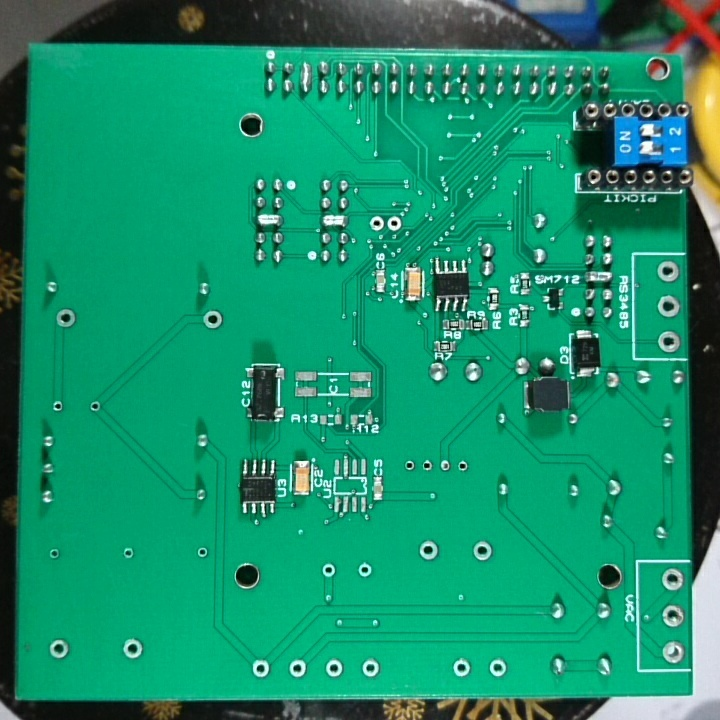F: (659, 635, 689, 666), (660, 601, 687, 631), (655, 258, 682, 286), (654, 294, 684, 319), (659, 566, 685, 593), (656, 330, 682, 356), (118, 636, 146, 660), (53, 306, 77, 332), (47, 636, 71, 661), (484, 656, 509, 680), (200, 307, 224, 331), (472, 539, 496, 563), (416, 539, 439, 562), (250, 655, 272, 679), (359, 656, 382, 678), (450, 656, 471, 680), (286, 657, 309, 678), (324, 656, 344, 678), (319, 560, 341, 579), (387, 212, 404, 234), (356, 560, 374, 580), (368, 214, 385, 235), (120, 545, 140, 561), (87, 397, 104, 415), (400, 458, 418, 475), (453, 459, 472, 475), (420, 456, 435, 476), (437, 458, 454, 475), (47, 546, 63, 563), (50, 398, 63, 417), (195, 545, 210, 561)
P: (581, 266, 616, 285), (298, 58, 313, 96), (254, 211, 285, 228), (319, 211, 347, 229)
